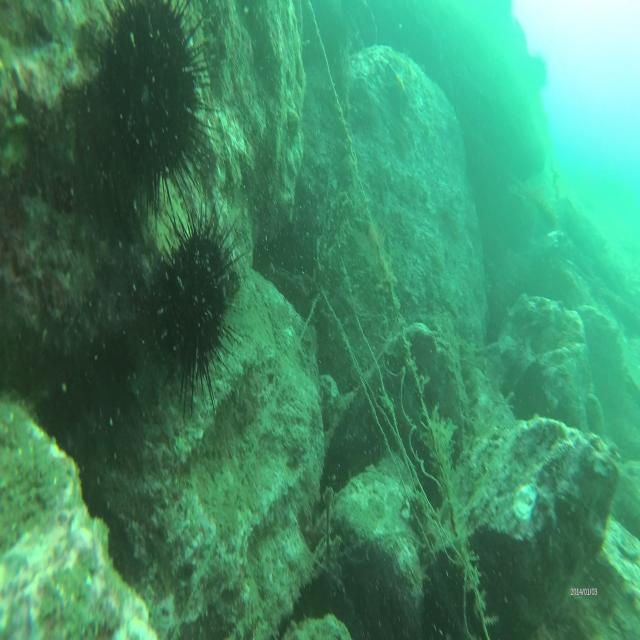echinus: (98, 3, 200, 196), (154, 213, 237, 386)
starfish: (385, 60, 410, 112)
